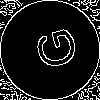G: (25, 25, 80, 75)
